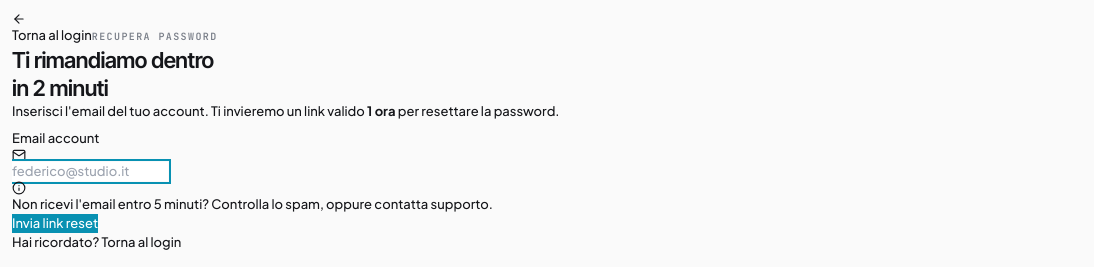
Test: ForgotPasswordPage · F.6 mock UI honest (D.3=A) › test 3 · submit con email valida → toast info onesto + success state visible
Type "fede@studio.it" into the field with test id "auth-forgot-email".
click(90, 172); type("fede@studio.it")  # box left=12, top=162, right=168, bottom=181
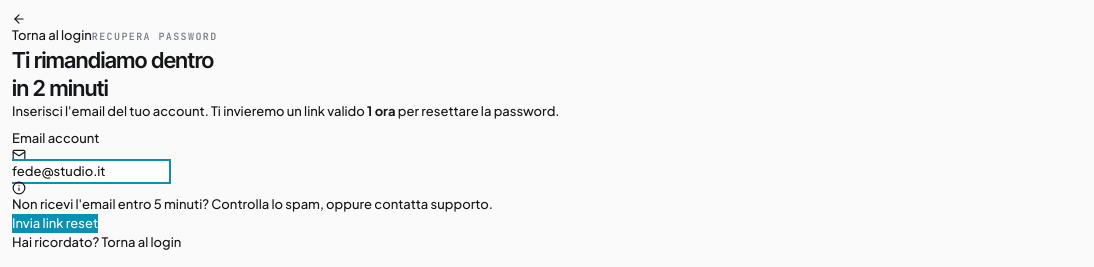
Click the button with test id "auth-forgot-submit".
click(55, 224)  # box left=12, top=214, right=98, bottom=233
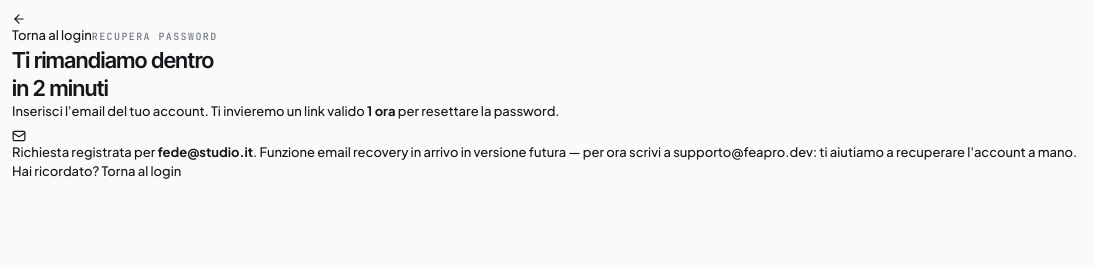
expect the element with test id "auth-forgot-success-banner" is shown: met, box left=12, top=129, right=1077, bottom=160
expect the text "fede@studio.it" is shown: met, box left=158, top=144, right=253, bottom=160
